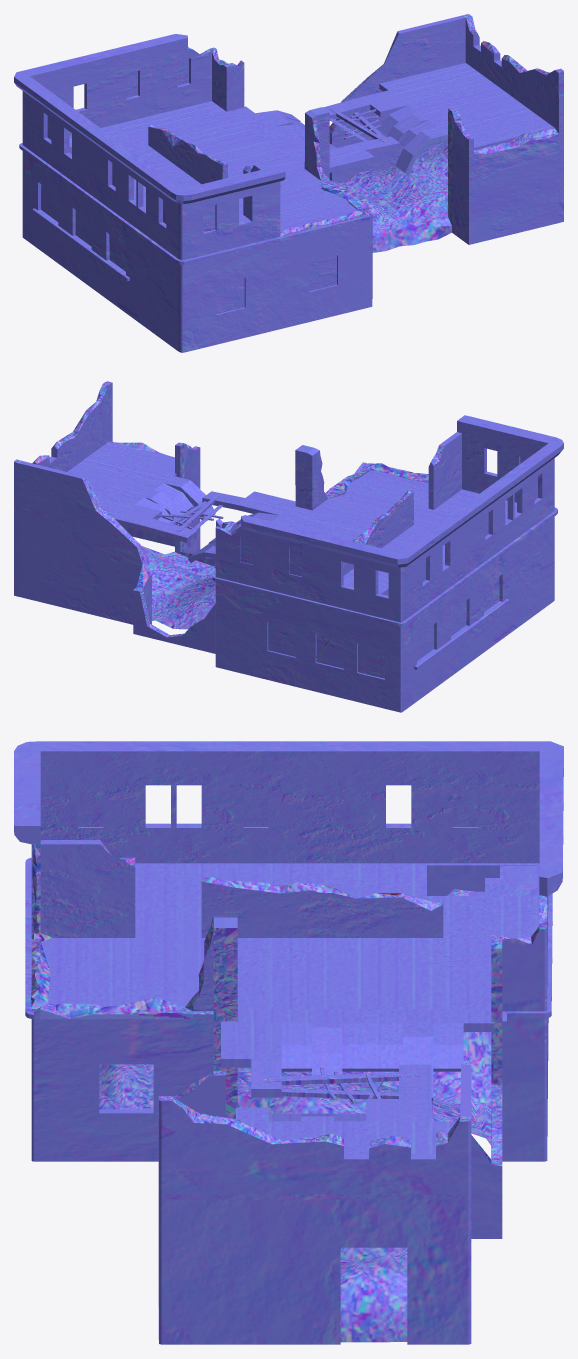
File: rebake_starthouse 1.fbx
3 renders of one model, top to bottom at view 1: azimuth 30°, elevation 25°; view 2: azimuth 150°, elevation 25°; view 3: azimuth 270°, elevation 25°, orthographic. The views are drawn at different scales.
Parts seen in each view (by area): view 1: start_house.001; view 2: start_house.001; view 3: start_house.001.
Boxes of the visible parts, <box> form: start_house.001: <box>14,14,563,352</box>; start_house.001: <box>14,381,563,712</box>; start_house.001: <box>14,741,563,1344</box>.
Bounding box in the file's own units: 3667 × 1343 × 2498.
